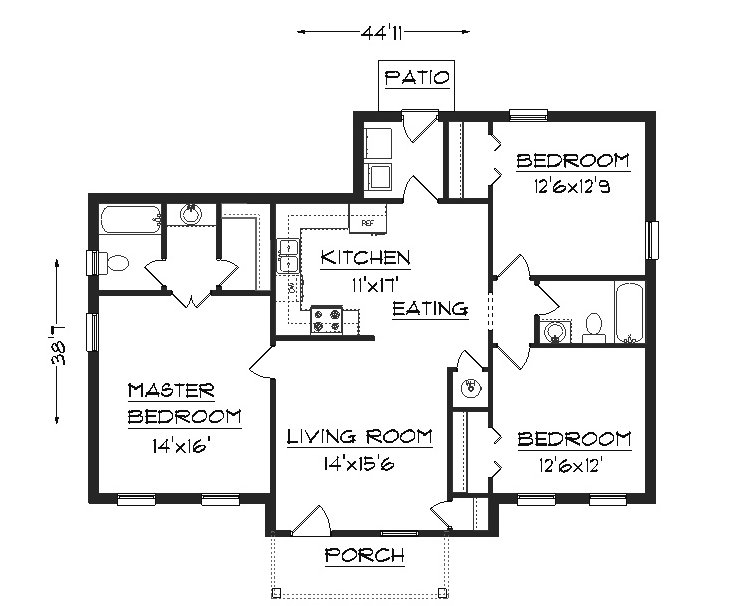wall: (89, 193, 364, 203), (644, 259, 655, 505), (87, 350, 98, 504), (546, 111, 655, 123), (644, 110, 655, 222), (352, 111, 363, 203), (437, 111, 509, 122), (269, 378, 275, 493), (88, 193, 99, 251), (529, 343, 645, 348), (529, 275, 645, 280), (264, 492, 276, 537), (154, 493, 201, 504), (487, 493, 498, 537), (87, 274, 99, 314), (554, 493, 589, 505), (238, 493, 275, 504), (625, 492, 655, 504), (87, 493, 117, 504)
